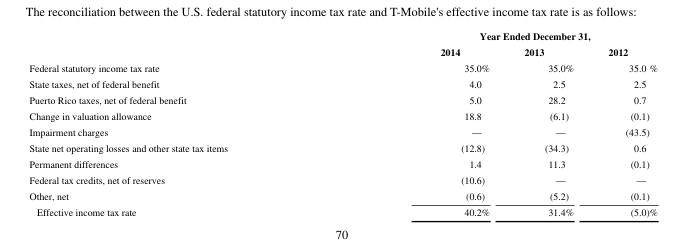table: (28, 28, 656, 218)
table column: (28, 28, 333, 218), (333, 28, 506, 218), (506, 28, 590, 218), (590, 28, 656, 218)
table column header: (28, 28, 656, 59)
table row: (28, 43, 656, 59), (28, 59, 656, 75), (28, 75, 656, 91), (28, 91, 656, 107), (28, 107, 656, 123), (28, 123, 656, 139), (28, 139, 656, 155), (28, 155, 656, 171), (28, 171, 656, 187), (28, 187, 656, 203), (28, 28, 656, 43), (28, 203, 656, 218)
table spanning cell: (333, 28, 656, 43)
